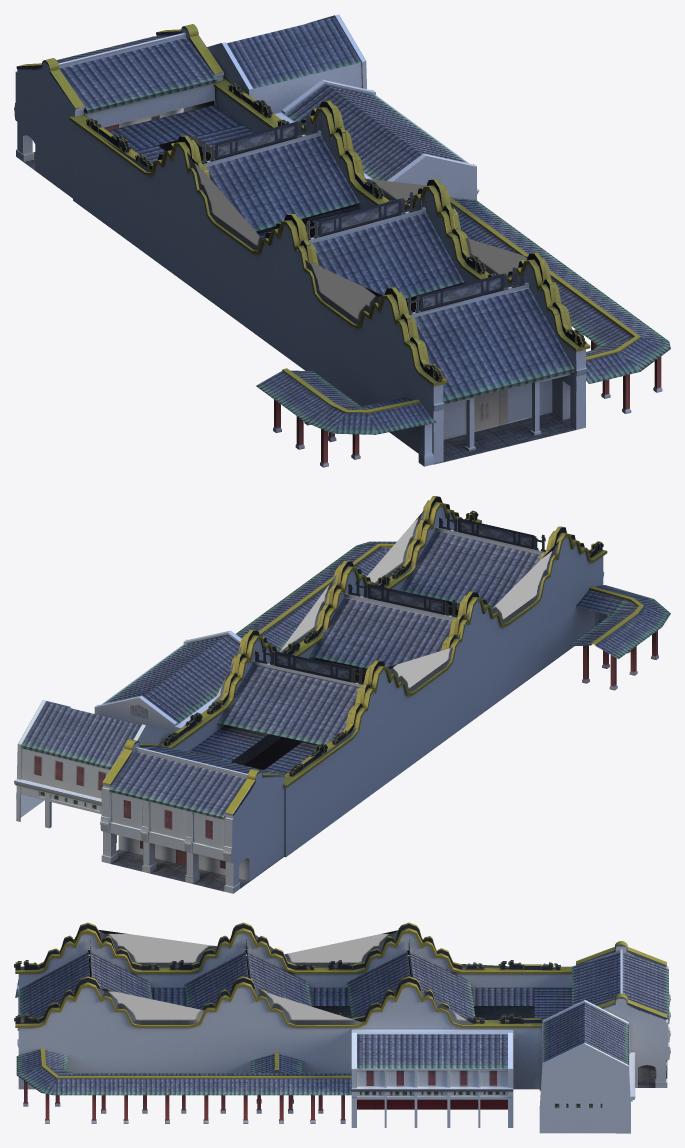
The model's file is OTC_Optimized.fbx.
3 views of the same model, one above another, from view 1: azimuth 30°, elevation 25°; view 2: azimuth 150°, elevation 25°; view 3: azimuth 270°, elevation 25° (orthographic). The views are drawn at different scales.
Visible parts, largest first — view 1: polySurface90, polySurface34, polySurface37, polySurface81, polySurface84, polySurface80, polySurface64, polySurface57, polySurface53, polySurface24, polySurface89, polySurface78 (+2 smaller); view 2: polySurface90, polySurface80, polySurface81, polySurface37, polySurface64, polySurface34, polySurface57, polySurface84, polySurface53, polySurface89, polySurface70, polySurface26 (+1 smaller); view 3: polySurface90, polySurface37, polySurface80, polySurface84, polySurface81, polySurface34, polySurface64, polySurface53, polySurface33, polySurface89.
Part boxes in pixels (x1,y1,x2,y2): polySurface90: [14, 24, 590, 464]; polySurface34: [409, 282, 574, 404]; polySurface37: [274, 79, 479, 200]; polySurface81: [202, 130, 359, 231]; polySurface84: [449, 197, 670, 383]; polySurface80: [207, 14, 366, 113]; polySurface64: [308, 207, 463, 298]; polySurface57: [256, 368, 436, 434]; polySurface53: [108, 104, 460, 299]; polySurface24: [443, 379, 552, 439]; polySurface89: [24, 139, 575, 462]; polySurface78: [420, 273, 503, 311]; polySurface90: [100, 496, 607, 893]; polySurface80: [14, 700, 169, 842]; polySurface81: [217, 660, 362, 744]; polySurface37: [94, 630, 241, 733]; polySurface64: [309, 593, 455, 668]; polySurface34: [399, 526, 544, 607]; polySurface57: [568, 585, 670, 658]; polySurface84: [236, 541, 396, 651]; polySurface53: [189, 658, 359, 775]; polySurface89: [111, 610, 458, 891]; polySurface70: [274, 651, 351, 681]; polySurface26: [367, 584, 444, 614]; polySurface90: [15, 922, 670, 1089]; polySurface37: [351, 1029, 513, 1127]; polySurface80: [539, 1000, 635, 1133]; polySurface84: [16, 1048, 351, 1095]; polySurface81: [347, 949, 475, 1018]; polySurface34: [20, 949, 152, 1020]; polySurface64: [184, 949, 311, 1009]; polySurface53: [151, 988, 571, 1020]; polySurface33: [251, 1053, 302, 1073]; polySurface89: [638, 1060, 667, 1087].
Bounding box in the file's own units: 376 × 139 × 751.
Materials: 1 (1 with a texture image).
